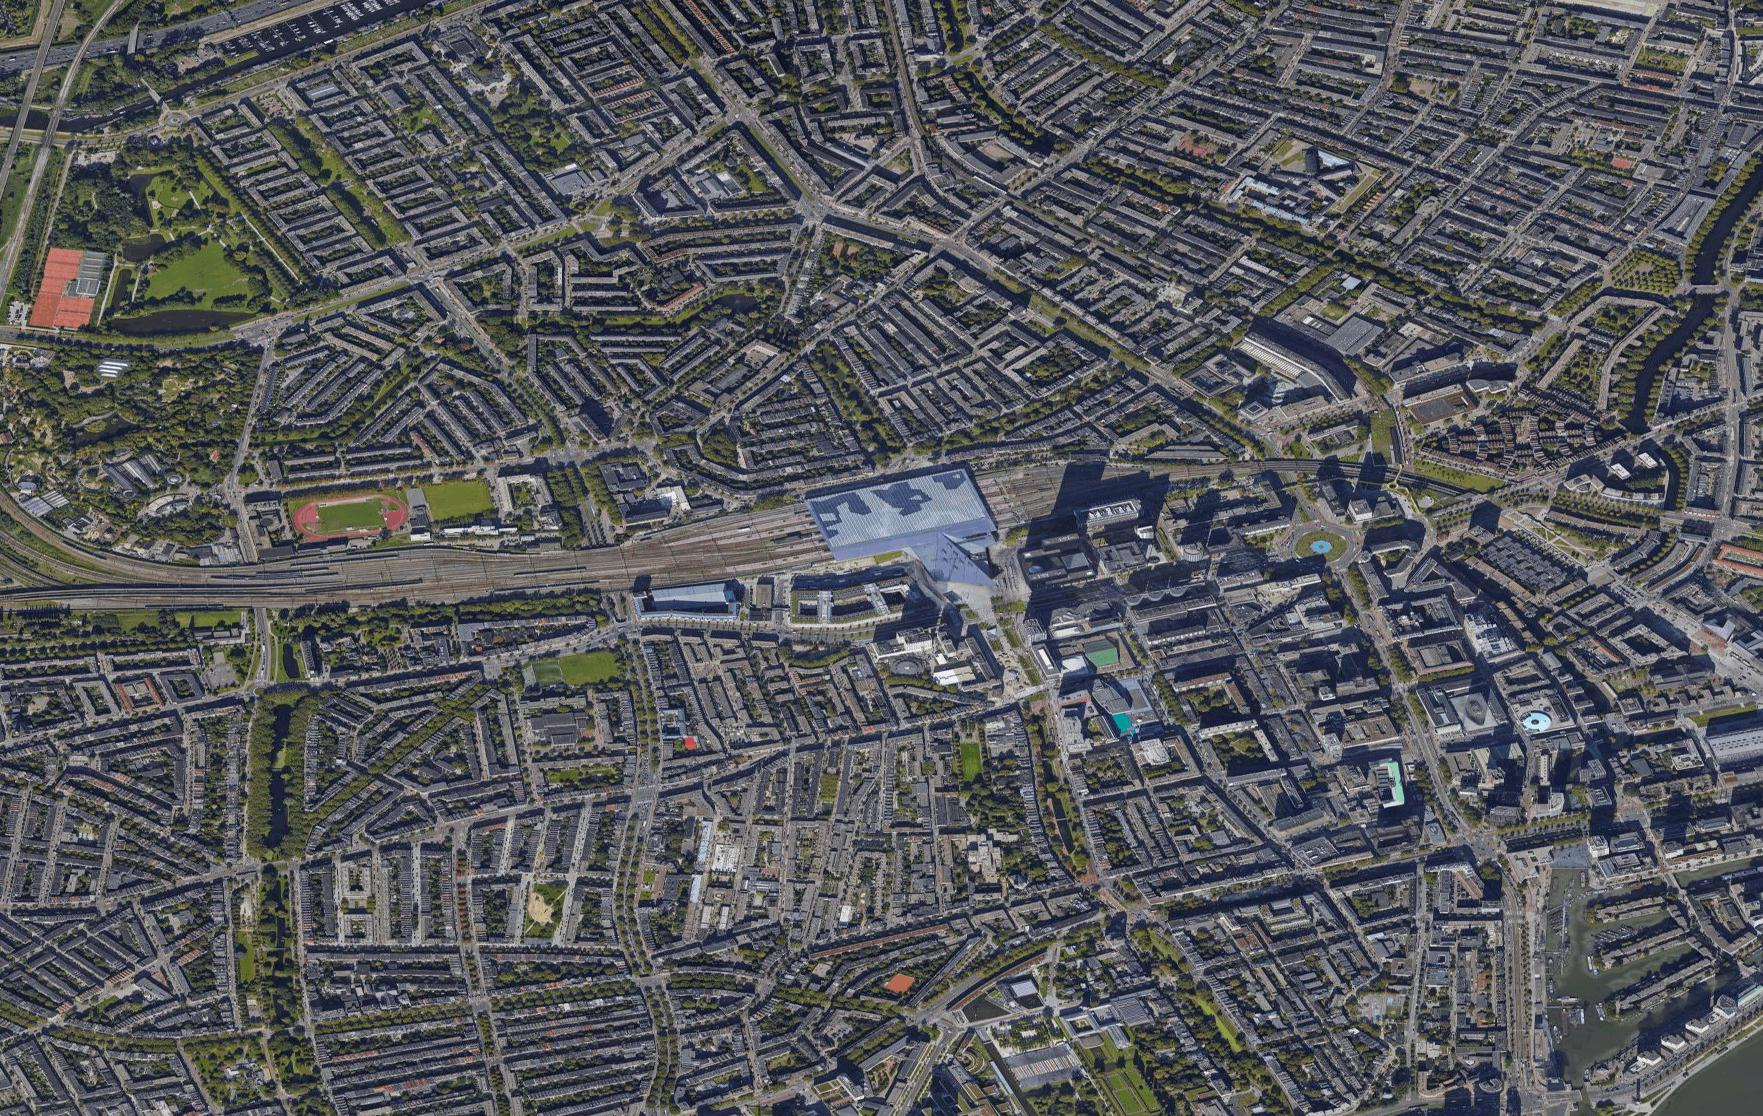bridge: (69, 31, 102, 66), (24, 39, 57, 72), (123, 21, 145, 53)
motorway: (1, 1, 303, 78)
train_station: (693, 445, 1065, 621)
